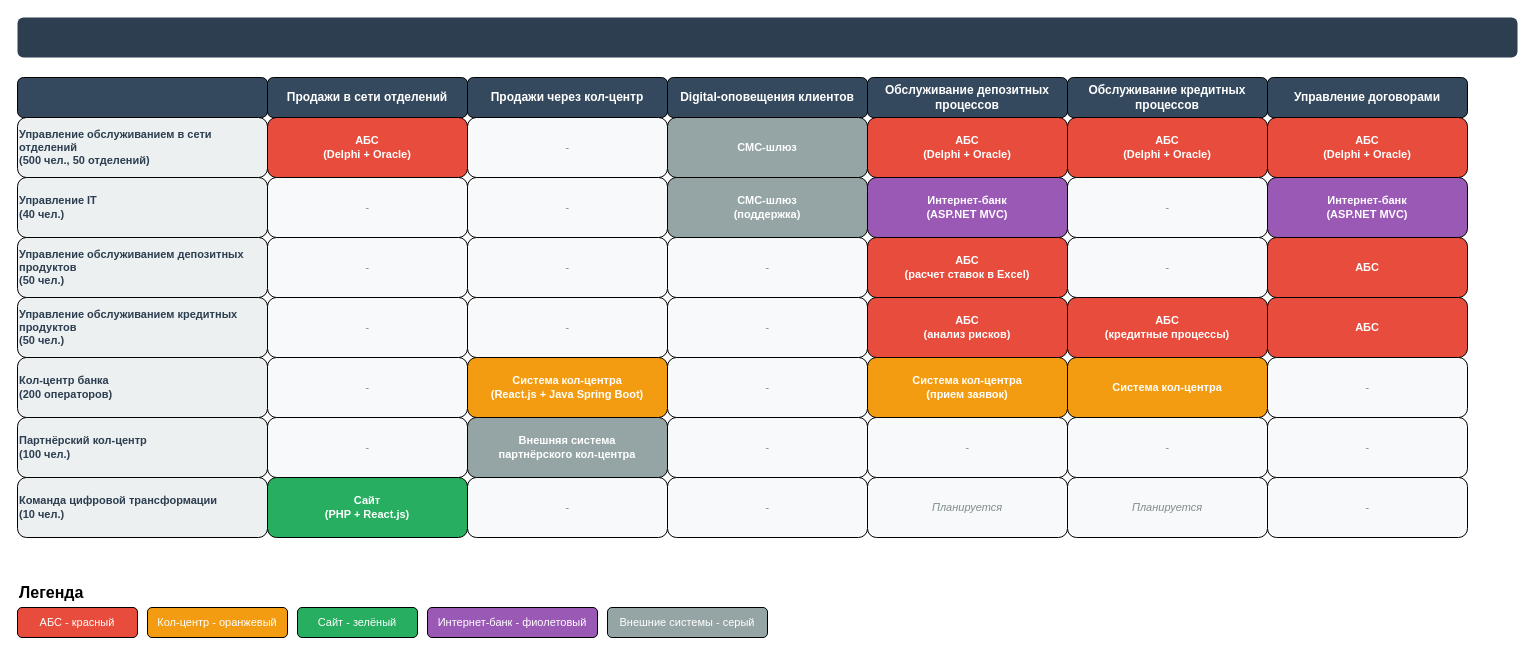
This 1535x655 diagram has some shape labels left out. Here are the shapes that lost their labels. From the top down, the centre of each, then its label:
the point at 767,37: Карта IT-ландшафта банка "Стандарт"
the point at 142,97: Организационная структура
